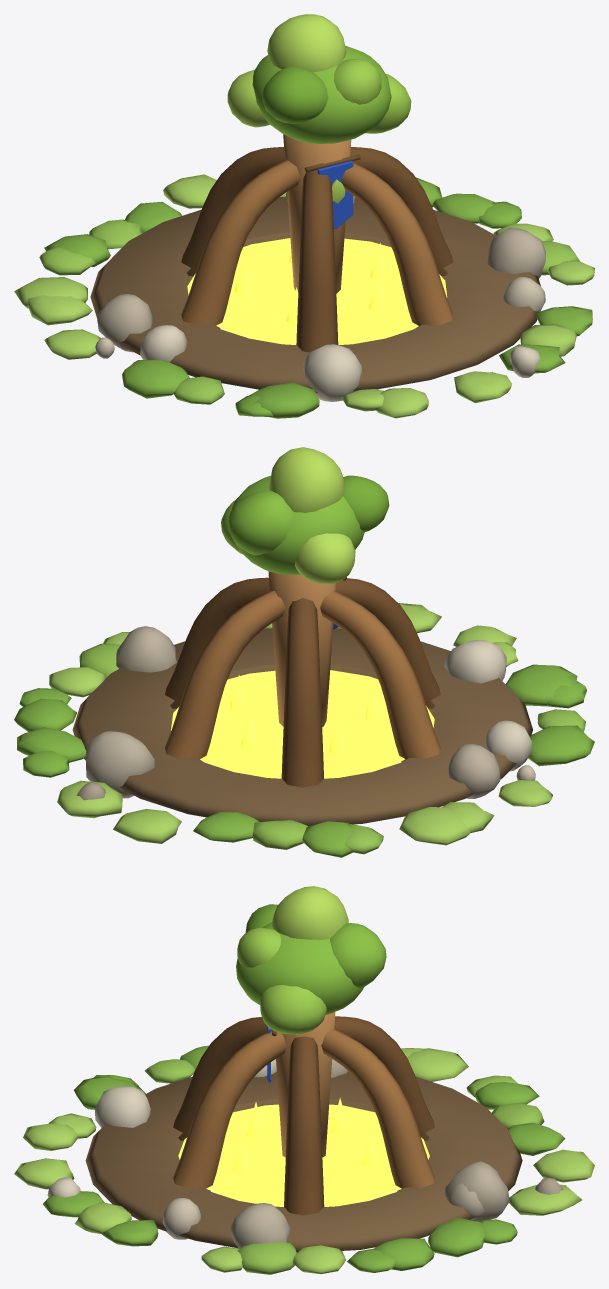
File: b_rootpit.glb
The picture shows the model from 3 angles, top to bottom: view 1: azimuth 30°, elevation 25°; view 2: azimuth 150°, elevation 25°; view 3: azimuth 270°, elevation 25°; orthographic projection. The views are drawn at different scales.
Visible parts, largest first — view 1: pitRim, root_matte#74502c, root_matte#a0703f, pitGlow, root_matte#a8d060, root_matte#7fb243, root_matte#b6dc5c, root_matte#86bc40, root_matte#d6ccb6, root_matte#b8ad98, root_matte#94c252, heart (+5 smaller); view 2: pitRim, root_matte#a0703f, root_matte#74502c, root_matte#7fb243, pitGlow, root_matte#a8d060, root_matte#b8ad98, root_matte#86bc40, root_matte#b6dc5c, root_matte#94c252, heart, root_matte#d6ccb6 (+2 smaller); view 3: pitRim, root_matte#a0703f, root_matte#74502c, root_matte#a8d060, root_matte#7fb243, pitGlow, root_matte#86bc40, root_matte#b8ad98, root_matte#9ccc4c, root_matte#94c252, root_matte#b6dc5c, root_matte#d6ccb6 (+4 smaller).
Boxes of the visible parts, box(x1,y1,x2,y2) form: pitRim: box(90, 196, 540, 392); root_matte#74502c: box(181, 147, 453, 352); root_matte#a0703f: box(181, 159, 453, 328); pitGlow: box(187, 238, 447, 344); root_matte#a8d060: box(14, 174, 594, 418); root_matte#7fb243: box(44, 177, 592, 418); root_matte#b6dc5c: box(227, 14, 346, 203); root_matte#86bc40: box(252, 45, 391, 143); root_matte#d6ccb6: box(140, 325, 539, 401); root_matte#b8ad98: box(97, 192, 545, 352); root_matte#94c252: box(39, 219, 580, 404); heart: box(283, 134, 351, 293); pitRim: box(72, 628, 532, 826); root_matte#a0703f: box(165, 590, 440, 761); root_matte#74502c: box(165, 577, 440, 787); root_matte#7fb243: box(14, 627, 594, 857); pitGlow: box(171, 670, 434, 778); root_matte#a8d060: box(49, 603, 552, 845); root_matte#b8ad98: box(85, 626, 500, 798); root_matte#86bc40: box(228, 475, 364, 574); root_matte#b6dc5c: box(269, 447, 355, 583); root_matte#94c252: box(79, 643, 585, 854); heart: box(268, 571, 336, 726); root_matte#d6ccb6: box(444, 640, 531, 771); pitRim: box(85, 1071, 522, 1252); root_matte#a0703f: box(173, 1029, 434, 1191); root_matte#74502c: box(173, 1016, 434, 1215); root_matte#a8d060: box(14, 1048, 594, 1274); root_matte#7fb243: box(42, 1045, 565, 1272); pitGlow: box(178, 1104, 429, 1206); root_matte#86bc40: box(236, 922, 386, 1015); root_matte#b8ad98: box(230, 1059, 509, 1248); root_matte#9ccc4c: box(237, 927, 326, 1034); root_matte#94c252: box(145, 1059, 544, 1274); root_matte#b6dc5c: box(271, 886, 348, 939); root_matte#d6ccb6: box(47, 1059, 276, 1197).
Size of the model in its own units: 3.16 by 1.82 by 3.32.
